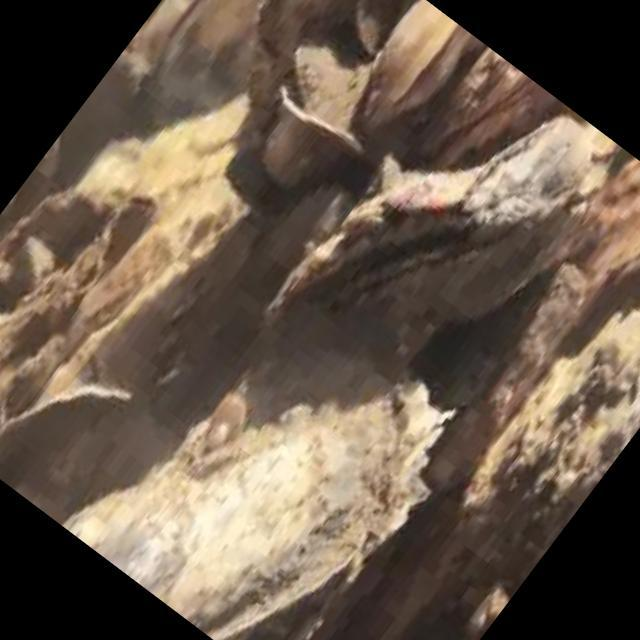Oyster- Indeterminate: (58, 353, 443, 640), (454, 306, 640, 593), (464, 124, 589, 237), (151, 0, 257, 124), (252, 0, 363, 101), (0, 380, 129, 460), (561, 246, 640, 350), (297, 41, 357, 127), (349, 0, 388, 53)
Oyster-Closed: (270, 171, 580, 344), (432, 267, 587, 495), (413, 48, 551, 171), (363, 0, 467, 128), (16, 234, 52, 286)
